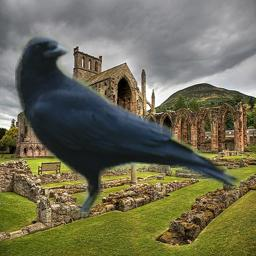Crow: (15, 31, 243, 217)
